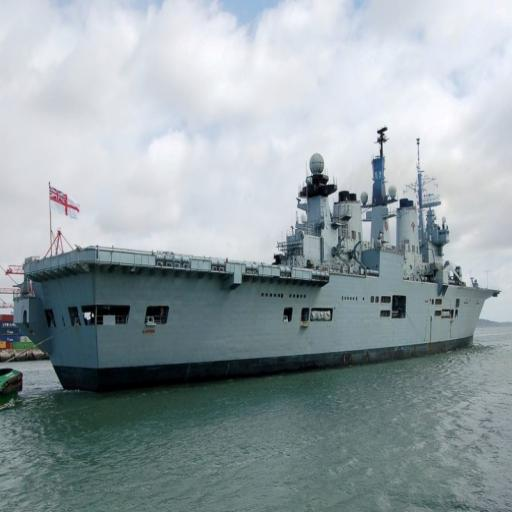Portanaves: (13, 120, 504, 396)
